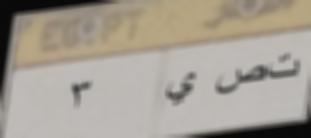3: (70, 76, 96, 111)
saad: (210, 62, 266, 99)
taa: (271, 51, 303, 84)
yaa: (161, 68, 200, 110)
